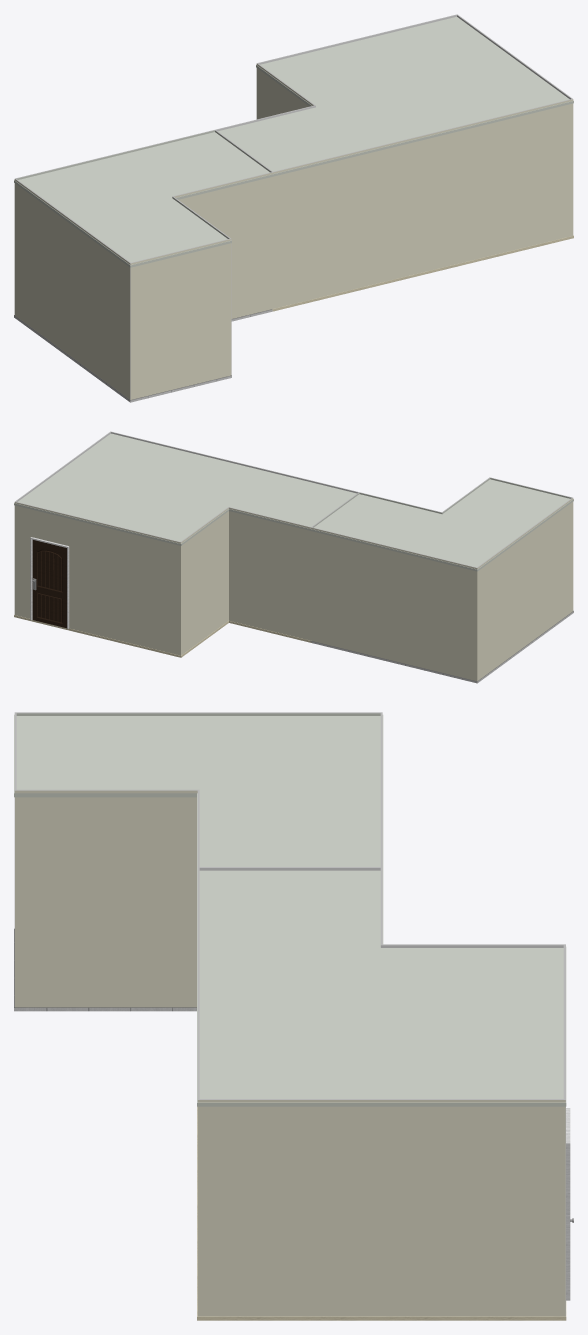
Rendered from ProcTHOR-Train-166.glb.
3 renders of one model, top to bottom at view 1: azimuth 30°, elevation 25°; view 2: azimuth 150°, elevation 25°; view 3: azimuth 270°, elevation 25°, orthographic. The views are drawn at different scales.
Visible parts, largest first — view 1: WallInside#wall|exterior|0.00|4.37|6.56|4.37, Ceiling#room|2|c, Ceiling#room|3|c, WallInside#wall|exterior|10.94|2.19|10.94|6.56, WallInside#wall|exterior|8.75|6.56|10.94|6.56, WallInside#wall|exterior|6.56|4.37|8.75|4.37, WallInside#wall|exterior|4.37|0.00|4.37|2.19, Floor#room|2|f, Floor#room|3|f, WallInside#wall|2|0.00|0.00|4.37|0.00, WallInside#wall|3|6.56|2.19|10.94|2.19; view 2: Ceiling#room|2|c, WallInside#wall|exterior|6.56|2.19|10.94|2.19, WallInside#wall|exterior|0.00|0.00|4.37|0.00, Ceiling#room|3|c, WallInside#wall|exterior|10.94|2.19|10.94|6.56, WallInside#wall|exterior|4.37|2.19|6.56|2.19, WallInside#wall|exterior|4.37|0.00|4.37|2.19, Doorway_9, Floor#room|2|f, Floor#room|3|f, WallInside#wall|2|0.00|4.37|6.56|4.37; view 3: WallInside#wall|exterior|0.00|0.00|0.00|4.37, Ceiling#room|2|c, Ceiling#room|3|c, WallInside#wall|exterior|8.75|4.37|8.75|6.56, Floor#room|2|f, WallInside#wall|3|10.94|2.19|10.94|6.56, Floor#room|3|f, Doorway_9.
Boxes of the visible parts, left/top/right/bottom form: WallInside#wall|exterior|0.00|4.37|6.56|4.37: left=272, top=99, right=573, bottom=308; Ceiling#room|2|c: left=218, top=16, right=573, bottom=176; Ceiling#room|3|c: left=14, top=132, right=272, bottom=267; WallInside#wall|exterior|10.94|2.19|10.94|6.56: left=14, top=179, right=130, bottom=399; WallInside#wall|exterior|8.75|6.56|10.94|6.56: left=130, top=239, right=231, bottom=399; WallInside#wall|exterior|6.56|4.37|8.75|4.37: left=174, top=172, right=273, bottom=318; WallInside#wall|exterior|4.37|0.00|4.37|2.19: left=256, top=63, right=314, bottom=119; Floor#room|2|f: left=272, top=235, right=573, bottom=311; Floor#room|3|f: left=14, top=309, right=272, bottom=402; WallInside#wall|2|0.00|0.00|4.37|0.00: left=258, top=15, right=456, bottom=64; WallInside#wall|3|6.56|2.19|10.94|2.19: left=15, top=130, right=214, bottom=179; Ceiling#room|2|c: left=14, top=433, right=356, bottom=545; WallInside#wall|exterior|6.56|2.19|10.94|2.19: left=311, top=527, right=477, bottom=680; WallInside#wall|exterior|0.00|0.00|4.37|0.00: left=14, top=502, right=180, bottom=655; Ceiling#room|3|c: left=311, top=479, right=573, bottom=571; WallInside#wall|exterior|10.94|2.19|10.94|6.56: left=477, top=498, right=573, bottom=680; WallInside#wall|exterior|4.37|2.19|6.56|2.19: left=229, top=507, right=311, bottom=640; WallInside#wall|exterior|4.37|0.00|4.37|2.19: left=181, top=507, right=228, bottom=655; Doorway_9: left=30, top=537, right=69, bottom=628; Floor#room|2|f: left=14, top=615, right=311, bottom=657; Floor#room|3|f: left=310, top=611, right=573, bottom=683; WallInside#wall|2|0.00|4.37|6.56|4.37: left=111, top=432, right=359, bottom=493; WallInside#wall|exterior|0.00|0.00|0.00|4.37: left=198, top=1099, right=565, bottom=1316; Ceiling#room|2|c: left=197, top=870, right=566, bottom=1106; Ceiling#room|3|c: left=14, top=714, right=383, bottom=870; WallInside#wall|exterior|8.75|4.37|8.75|6.56: left=15, top=790, right=198, bottom=1007; Floor#room|2|f: left=197, top=1106, right=566, bottom=1320; WallInside#wall|3|10.94|2.19|10.94|6.56: left=15, top=712, right=382, bottom=715; Floor#room|3|f: left=14, top=928, right=196, bottom=1011; Doorway_9: left=566, top=1108, right=573, bottom=1300.
Size of the model in its own units: 10.98 by 2.91 by 6.69.
115 materials, 35 textured.
